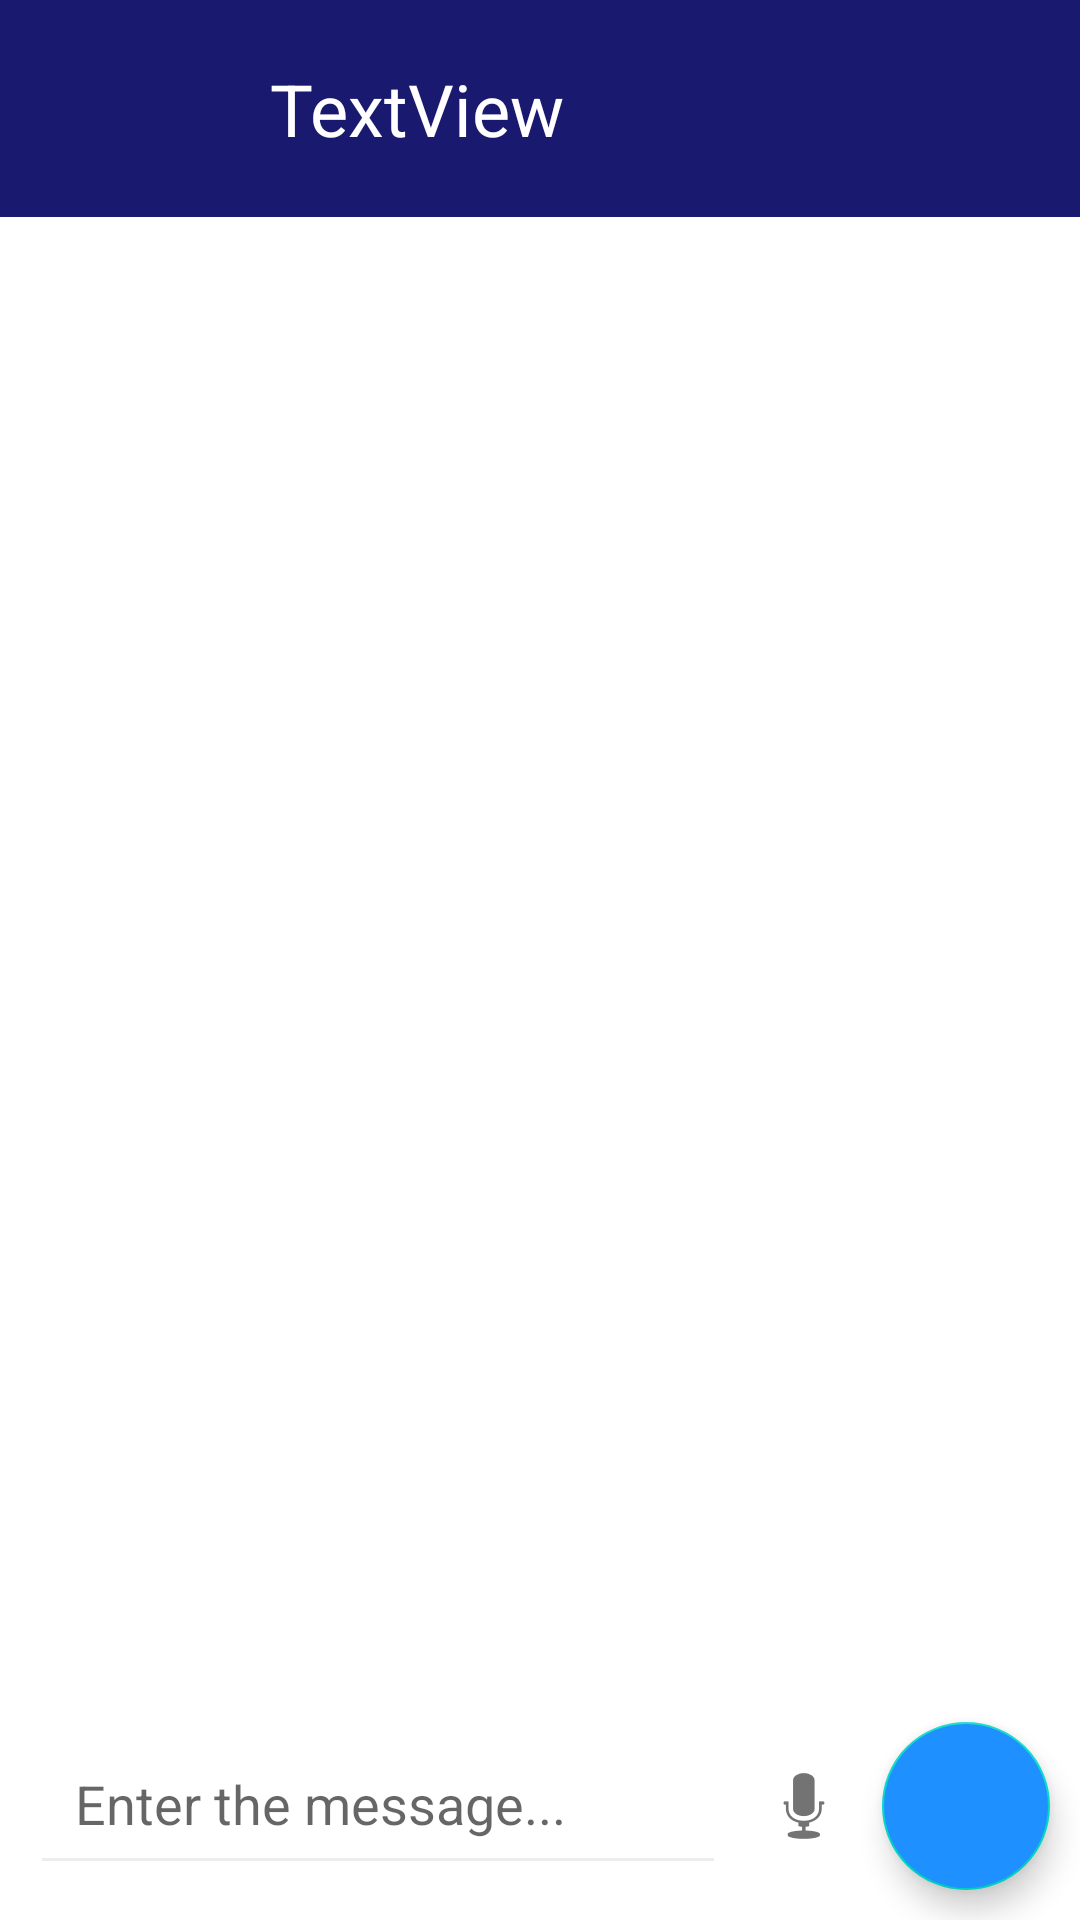

Named icons in this screenshot (1080w x 1920h) and their bounding boxes, detection(x1, y1, x2, y2):
speak now: detection(783, 1773, 825, 1839)
